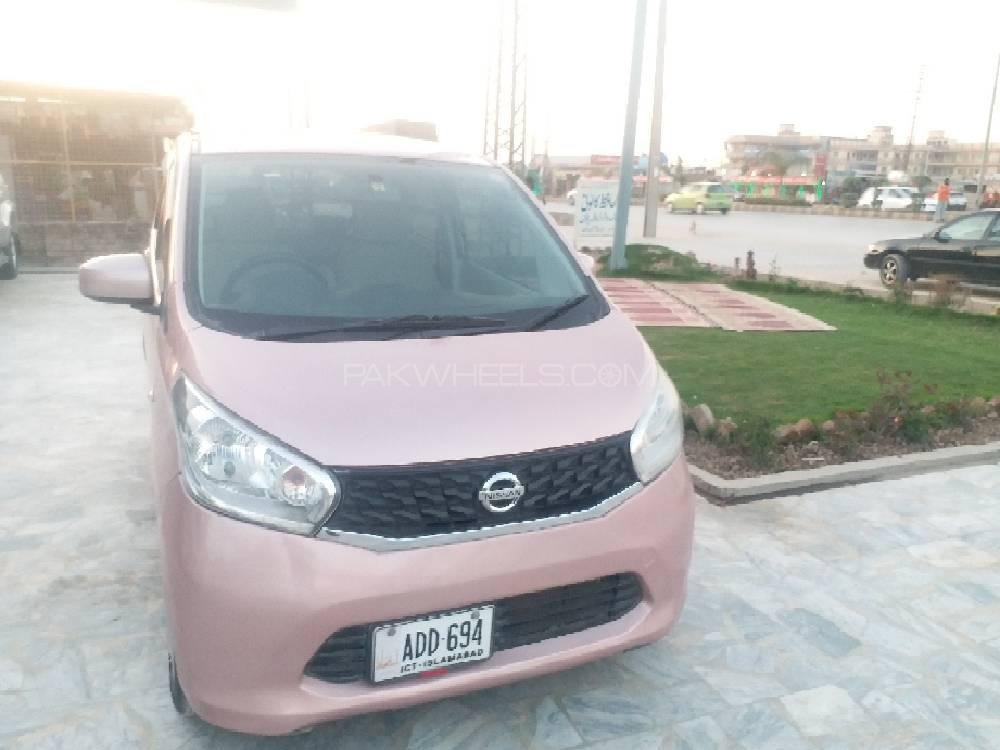license plate: (374, 615, 498, 676)
